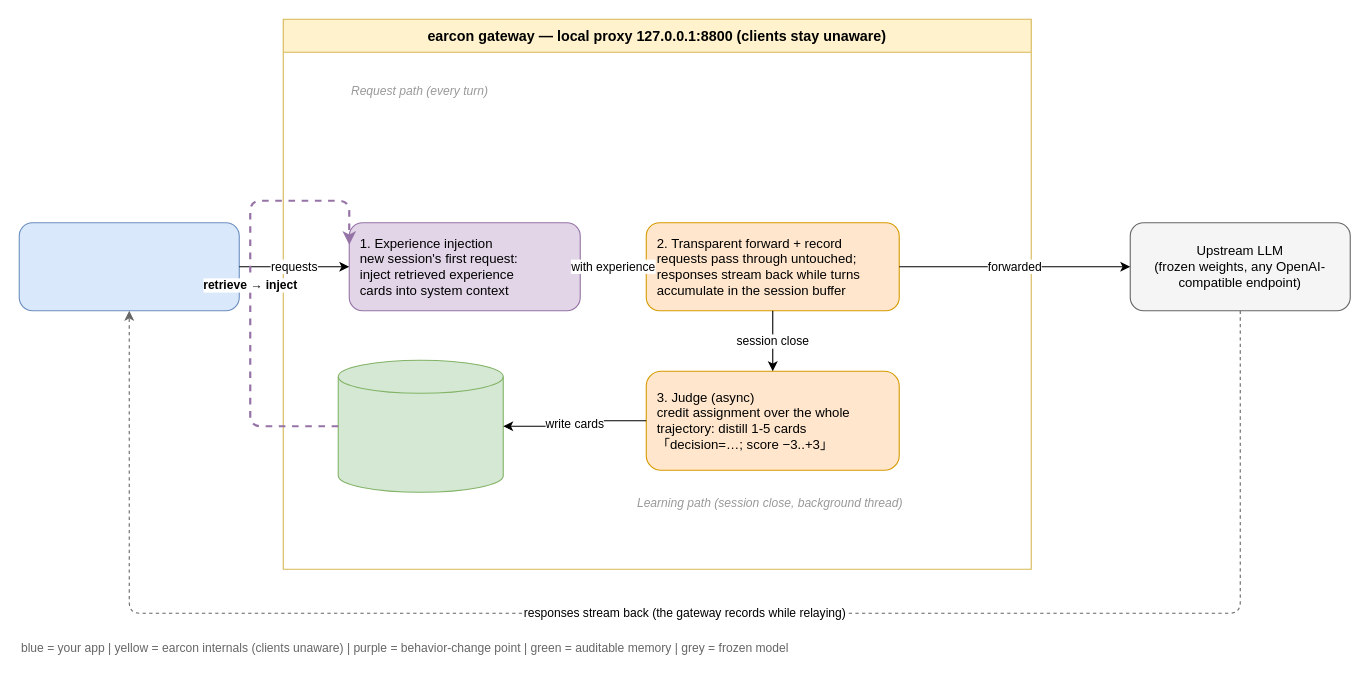
Some shapes in this 1370 by 681 pixel diagram are drawn without their labels. Each missing label, with the centre of its shape:
Experience cards SQLite (auditable, editable, one file): the point at 420,425
Your App (any OpenAI SDK / agent / coding client — change one base_url): the point at 128,266
